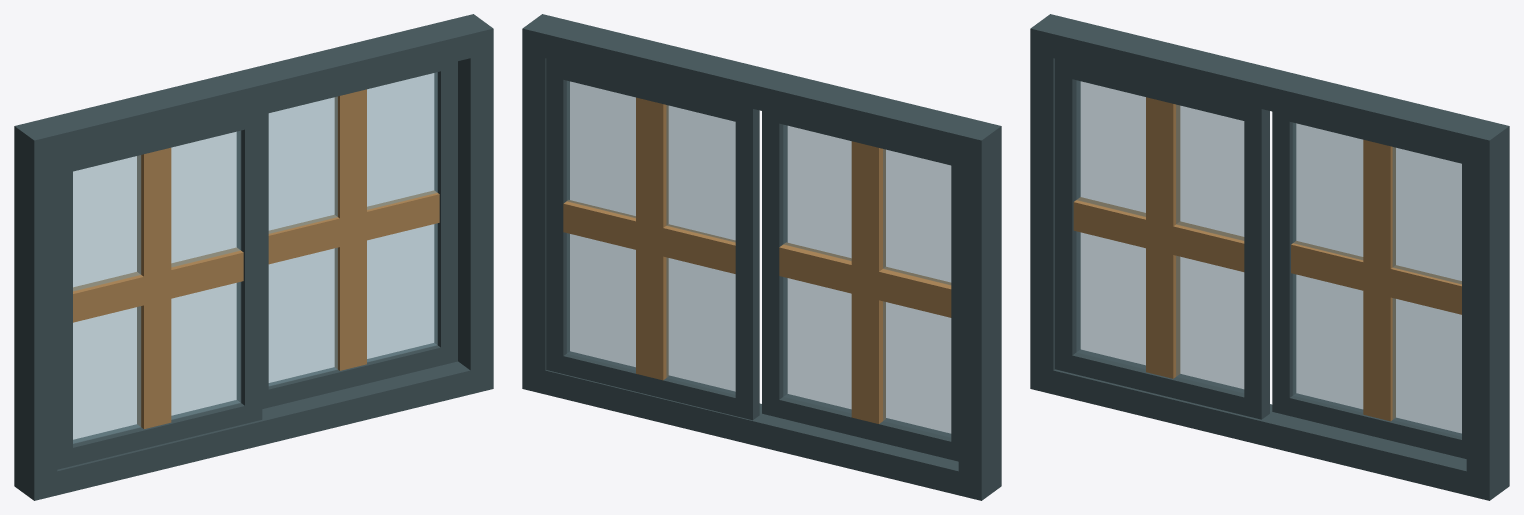
3 views of the same model, side by side, from view 1: azimuth 30°, elevation 25°; view 2: azimuth 150°, elevation 25°; view 3: azimuth 330°, elevation 25° (orthographic).
Parts seen in each view (by area): view 1: fixedGlass, movingGlass, outer-top, outer-left, outer-bottom, outer-right, sash-mid-vertical, fixed-sash-mid-vertical, sash-right, fixed-sash-right, sash-mid-horizontal, fixed-sash-mid-horizontal (+6 smaller); view 2: fixedGlass, movingGlass, outer-top, outer-left, outer-bottom, outer-right, sash-mid-vertical, fixed-sash-mid-vertical, fixed-sash-left, sash-right, fixed-sash-right, sash-mid-horizontal (+6 smaller); view 3: fixedGlass, movingGlass, outer-top, outer-right, outer-bottom, outer-left, sash-mid-vertical, fixed-sash-mid-vertical, sash-right, sash-left, fixed-sash-left, sash-mid-horizontal (+6 smaller).
Boxes of the visible parts, x1,y1,x2,y2 form: fixedGlass: (268, 72, 437, 386); movingGlass: (73, 130, 240, 443); outer-top: (14, 19, 470, 164); outer-left: (14, 120, 57, 500); outer-bottom: (14, 361, 493, 500); outer-right: (451, 14, 493, 394); sash-mid-vertical: (137, 147, 171, 428); fixed-sash-mid-vertical: (335, 89, 366, 370); sash-right: (236, 109, 262, 423); fixed-sash-right: (434, 67, 457, 364); sash-mid-horizontal: (73, 247, 243, 322); fixed-sash-mid-horizontal: (268, 190, 439, 264); fixedGlass: (567, 81, 735, 394); movingGlass: (783, 125, 951, 437); outer-top: (522, 19, 1001, 164); outer-left: (958, 120, 1001, 500); outer-bottom: (522, 365, 1001, 500); outer-right: (522, 14, 564, 394); sash-mid-vertical: (851, 141, 885, 423); fixed-sash-mid-vertical: (636, 97, 668, 380); fixed-sash-left: (735, 104, 759, 420); sash-right: (762, 111, 787, 417); fixed-sash-right: (546, 58, 569, 373); sash-mid-horizontal: (779, 242, 951, 317); fixedGlass: (1293, 122, 1461, 436); movingGlass: (1076, 80, 1244, 392); outer-top: (1030, 19, 1509, 164); outer-right: (1466, 120, 1509, 500); outer-bottom: (1030, 365, 1509, 500); outer-left: (1030, 14, 1072, 394); sash-mid-vertical: (1146, 97, 1180, 378); fixed-sash-mid-vertical: (1363, 139, 1395, 421); sash-right: (1244, 105, 1269, 419); sash-left: (1055, 58, 1080, 372); fixed-sash-left: (1272, 116, 1295, 411); sash-mid-horizontal: (1073, 197, 1244, 271).
Bounding box in the file's own units: 1.6 × 1.2 × 0.12.
